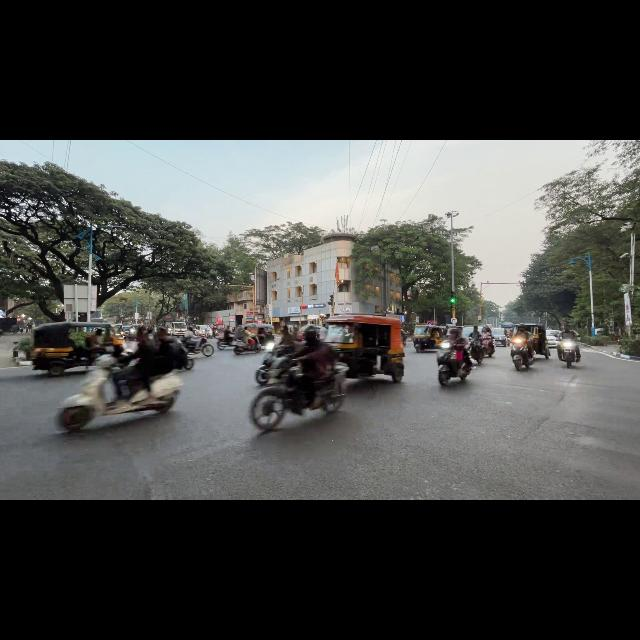car: (298, 324, 321, 340), (546, 330, 561, 347), (195, 325, 212, 338), (493, 333, 506, 346)
motorcycle: (58, 355, 182, 430), (250, 357, 309, 430), (437, 341, 471, 386), (255, 342, 280, 385), (511, 338, 534, 371), (183, 337, 214, 356), (559, 340, 577, 368), (176, 343, 194, 369), (233, 339, 261, 354), (470, 339, 484, 364), (482, 335, 495, 357), (217, 336, 233, 350)
